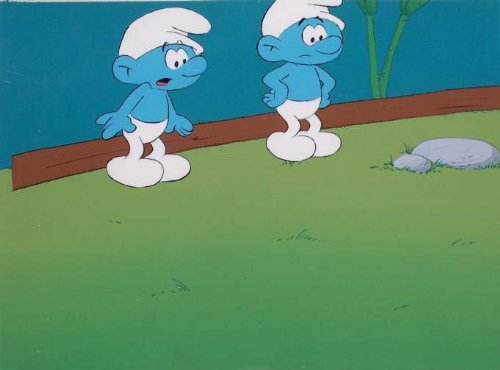smurf: (98, 5, 211, 189), (258, 1, 345, 162)
